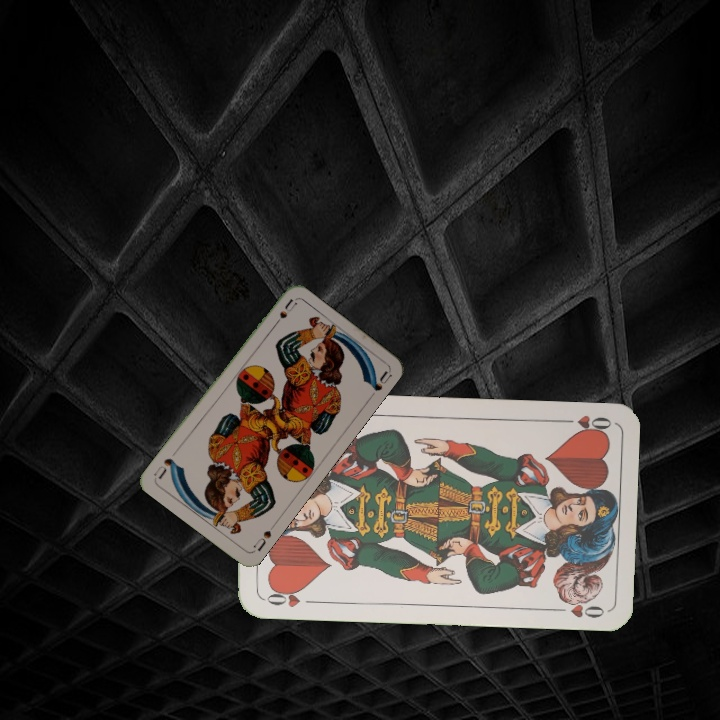HO: (258, 584, 317, 610), (555, 411, 614, 437)
SU: (268, 295, 298, 332), (249, 526, 274, 554)
